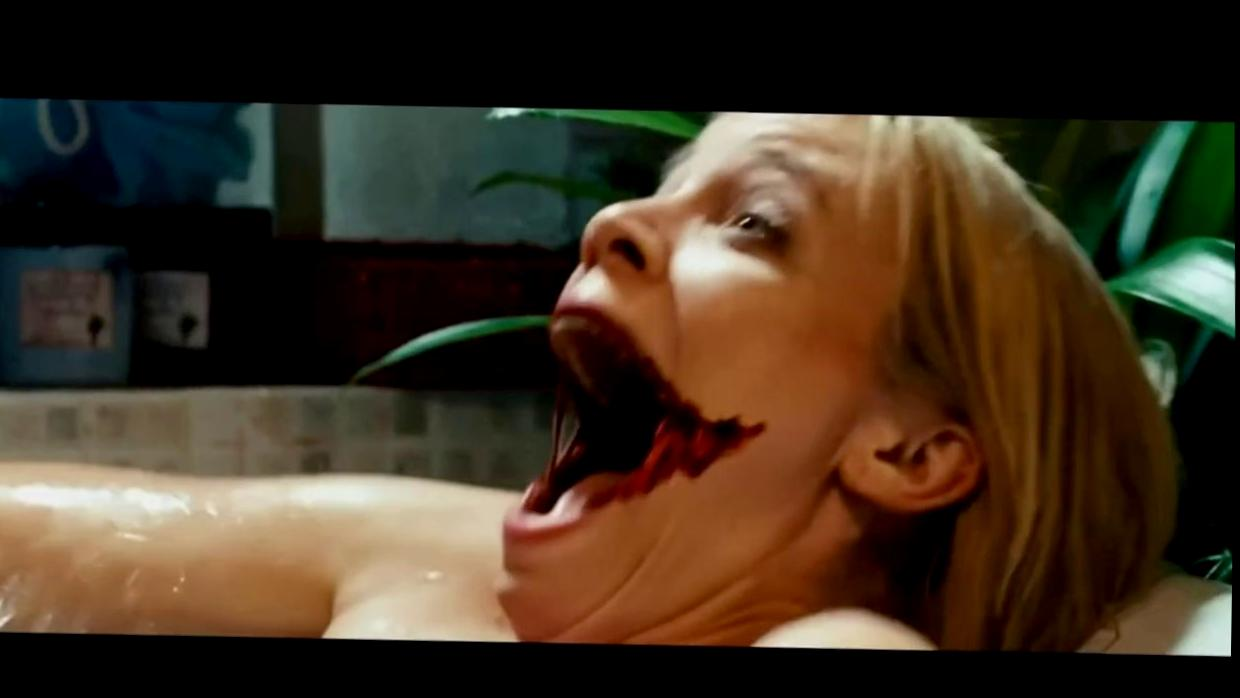Fire: (526, 309, 766, 508)
